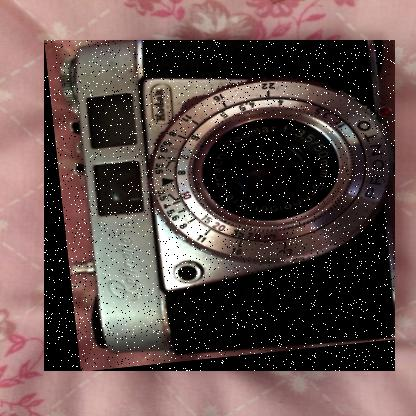Camera: (45, 41, 397, 373)
